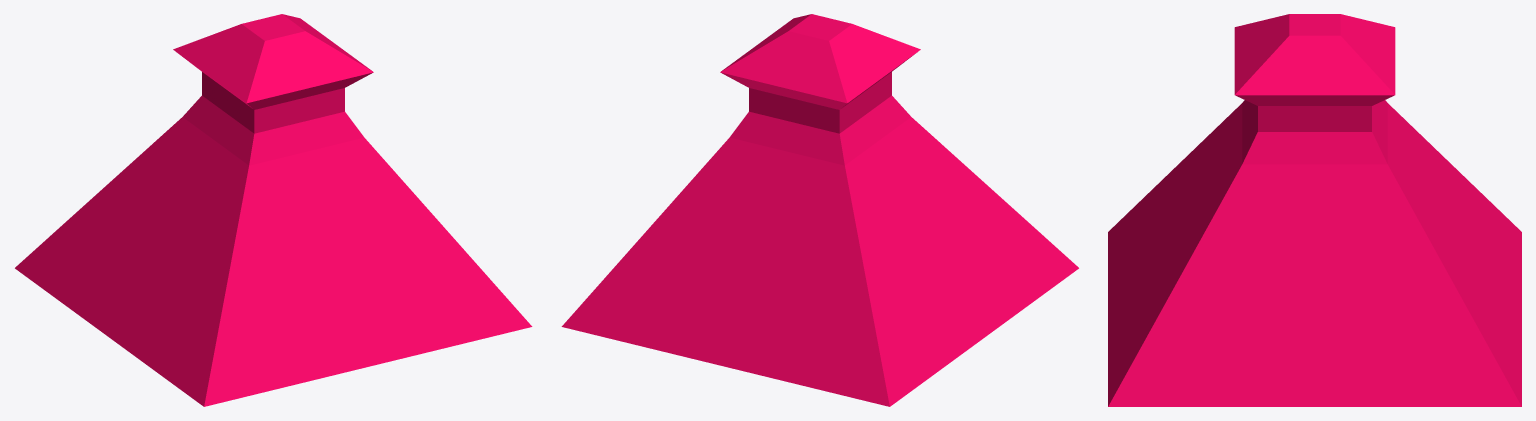
The model's file is pyramide.glb.
3 views of the same model, side by side, from view 1: azimuth 30°, elevation 25°; view 2: azimuth 150°, elevation 25°; view 3: azimuth 270°, elevation 25° (orthographic). The views are drawn at different scales.
Visible parts, largest first — view 1: Cube; view 2: Cube; view 3: Cube.
Boxes of the visible parts, x1,y1,x2,y2 form: Cube: (15, 14, 532, 406); Cube: (561, 14, 1078, 406); Cube: (1108, 14, 1521, 406).
Size of the model in its own units: 7.24 by 5.69 by 7.24.
